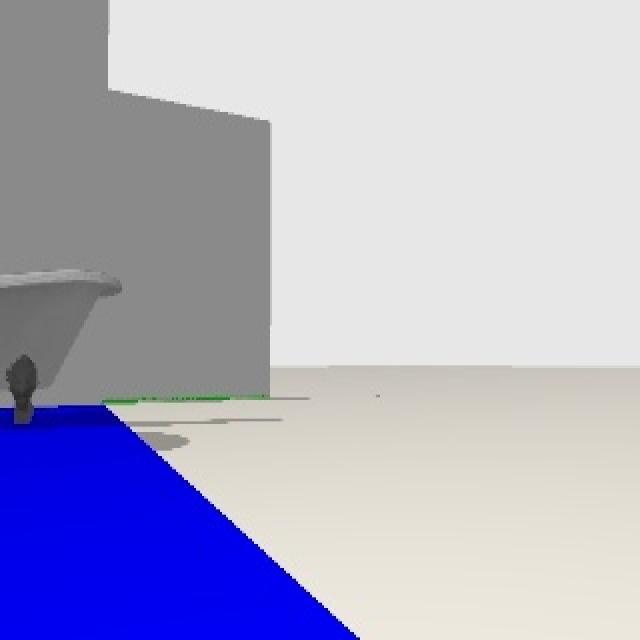bathtub: (0, 263, 126, 436)
